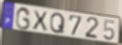2: (85, 16, 100, 40)
5: (103, 19, 116, 42)
7: (68, 14, 83, 36)
G: (15, 7, 32, 31)
Q: (50, 12, 66, 35)
X: (32, 10, 49, 32)
